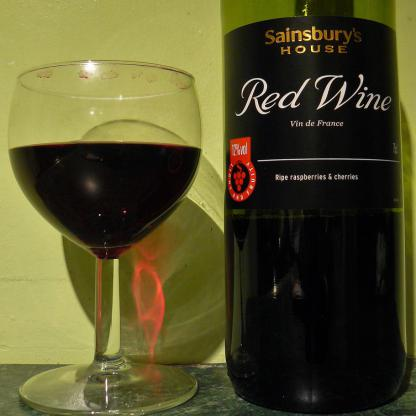drinking: (219, 0, 408, 415), (8, 60, 202, 416)
